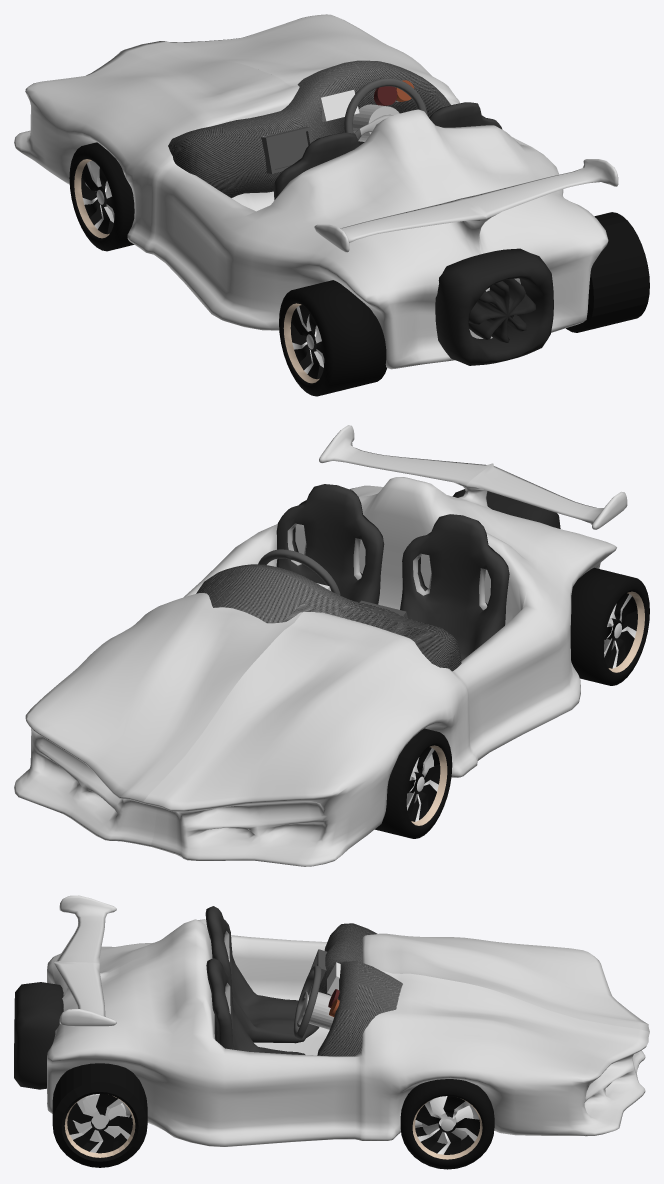
Rendered from Lowo ireng V1.fbx.
3 views of the same model, one above another, from view 1: azimuth 30°, elevation 25°; view 2: azimuth 150°, elevation 25°; view 3: azimuth 270°, elevation 25° (orthographic). The views are drawn at different scales.
Parts seen in each view (by area): view 1: Cube.003, Plane, Cube.009, Cylinder.005, Cylinder.004, Cylinder.006, Cube.004, Cube.002, Cube.007, Cube.001, Cube.010, Cylinder.002; view 2: Cube.003, Cube.004, Plane, Cube.001, Cylinder.005, Cylinder.006, Cube.009, Cube.007; view 3: Cube.003, Cylinder.004, Cylinder.003, Plane, Cube.004, Cube.009, Cube.001, Cube.007, Cylinder.002.
Boxes of the visible parts, box(x1,y1,x2,y2) form: Cube.003: box(14, 14, 618, 369); Plane: box(168, 60, 450, 197); Cube.009: box(435, 248, 553, 365); Cylinder.005: box(279, 280, 386, 396); Cylinder.004: box(566, 212, 649, 332); Cylinder.006: box(69, 142, 134, 251); Cube.004: box(273, 132, 359, 200); Cube.002: box(261, 126, 312, 173); Cube.007: box(344, 78, 427, 140); Cube.001: box(429, 102, 502, 129); Cube.010: box(318, 90, 359, 121); Cylinder.002: box(353, 104, 399, 141); Cube.003: box(14, 425, 627, 866); Cube.004: box(400, 514, 509, 660); Plane: box(196, 564, 461, 671); Cube.001: box(276, 484, 384, 604); Cylinder.005: box(570, 567, 649, 685); Cylinder.006: box(375, 728, 452, 838); Cube.009: box(452, 489, 560, 528); Cube.007: box(258, 549, 340, 595); Cube.003: box(47, 895, 649, 1146); Cylinder.004: box(52, 1063, 147, 1167); Cylinder.003: box(400, 1079, 494, 1169); Plane: box(317, 923, 402, 1056); Cube.004: box(205, 906, 319, 1043); Cube.009: box(14, 982, 63, 1089); Cube.001: box(206, 958, 305, 1054); Cube.007: box(293, 965, 321, 1039); Cylinder.002: box(308, 991, 333, 1029).
Size of the model in its own units: 323 by 178 by 585.
15 materials, 1 textured.
